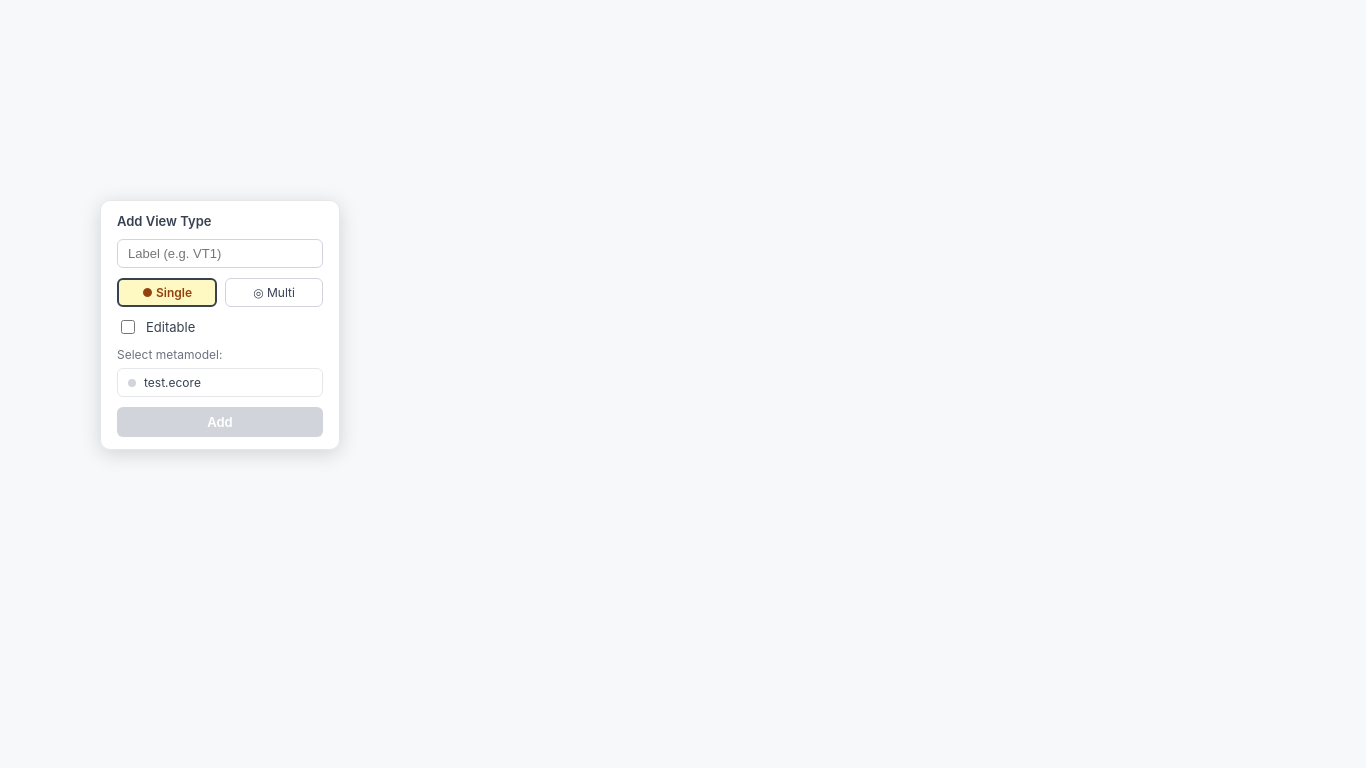
Test: ViewTypeContextMenu › Add button is enabled when label and node are both set
Type "VT1" into the field with placeholder "Label (e.g. VT1)" at (220,254), box [117, 239, 323, 268]
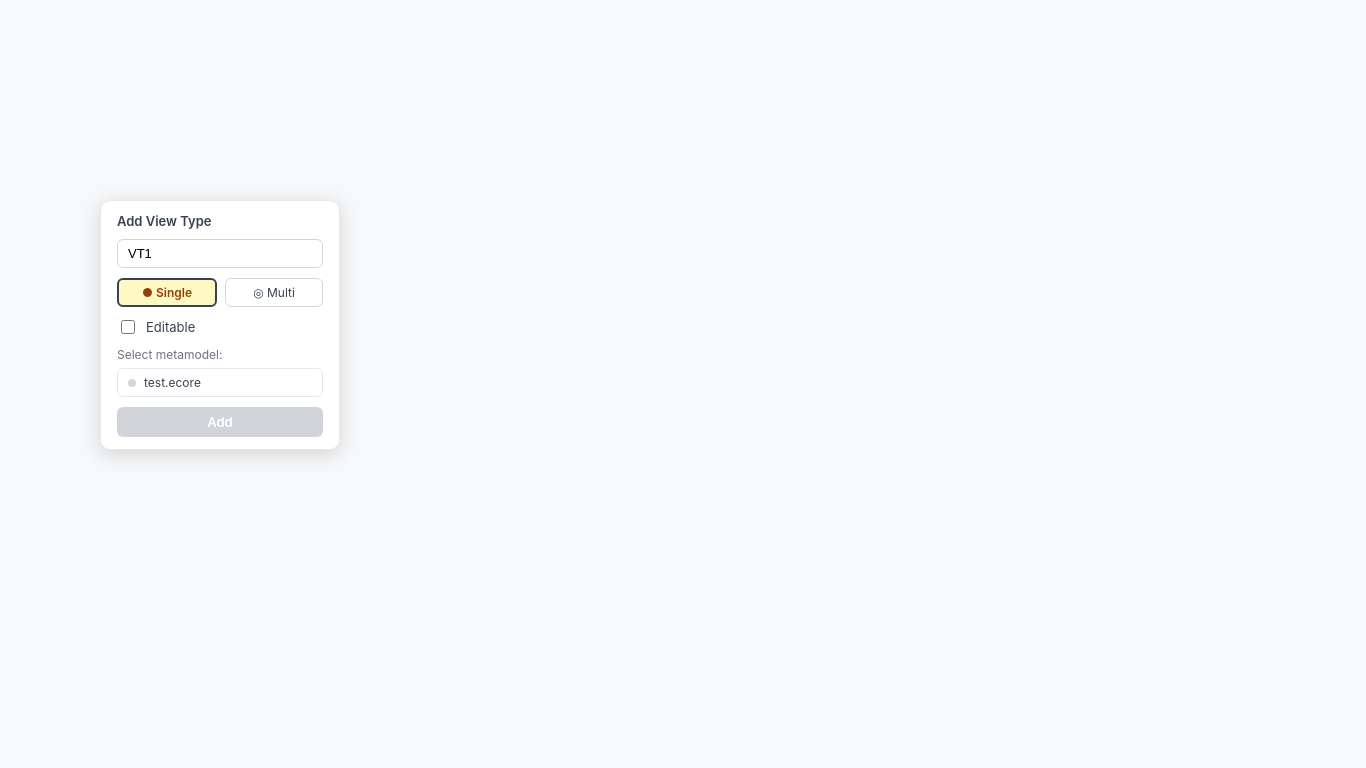
Click the button "test.ecore" at (220,382), box [117, 368, 323, 397]
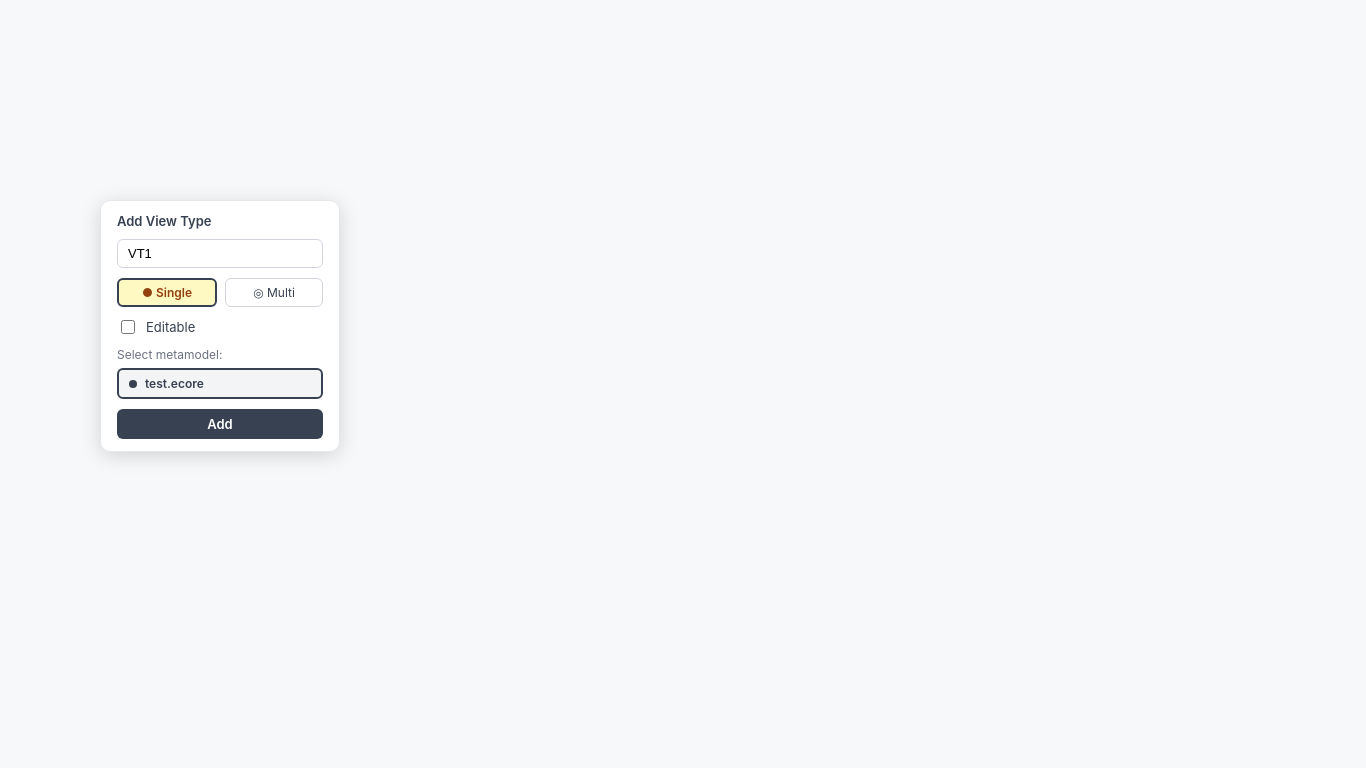
Expected: the button "Add" is enabled, [117, 409, 323, 439]
